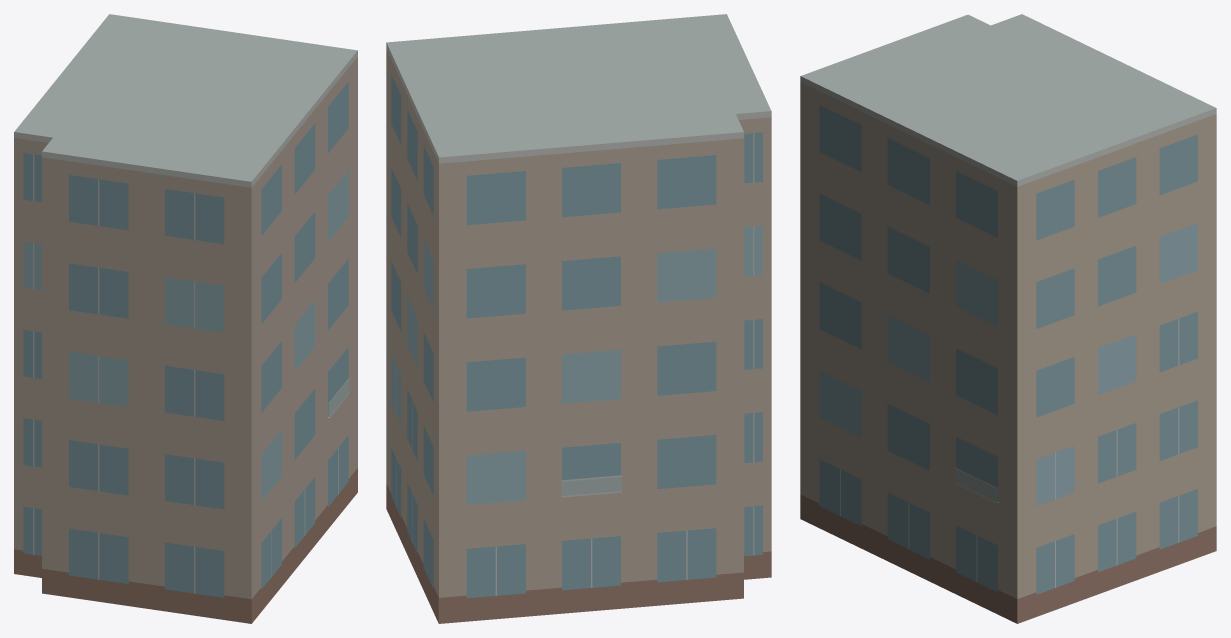
Rendered from survey-upis-32680625.glb.
3 views of the same model, side by side, from view 1: azimuth 30°, elevation 25°; view 2: azimuth 150°, elevation 25°; view 3: azimuth 270°, elevation 25° (orthographic). The views are drawn at different scales.
Visible parts, largest first — view 1: survey-upis-32680625.tmp; view 2: survey-upis-32680625.tmp; view 3: survey-upis-32680625.tmp.
Part boxes in pixels (x1,y1,x2,y2): survey-upis-32680625.tmp: [14, 14, 357, 623]; survey-upis-32680625.tmp: [386, 14, 771, 623]; survey-upis-32680625.tmp: [800, 14, 1216, 623].
Size of the model in its own units: 14.8 by 18.3 by 15.59.
